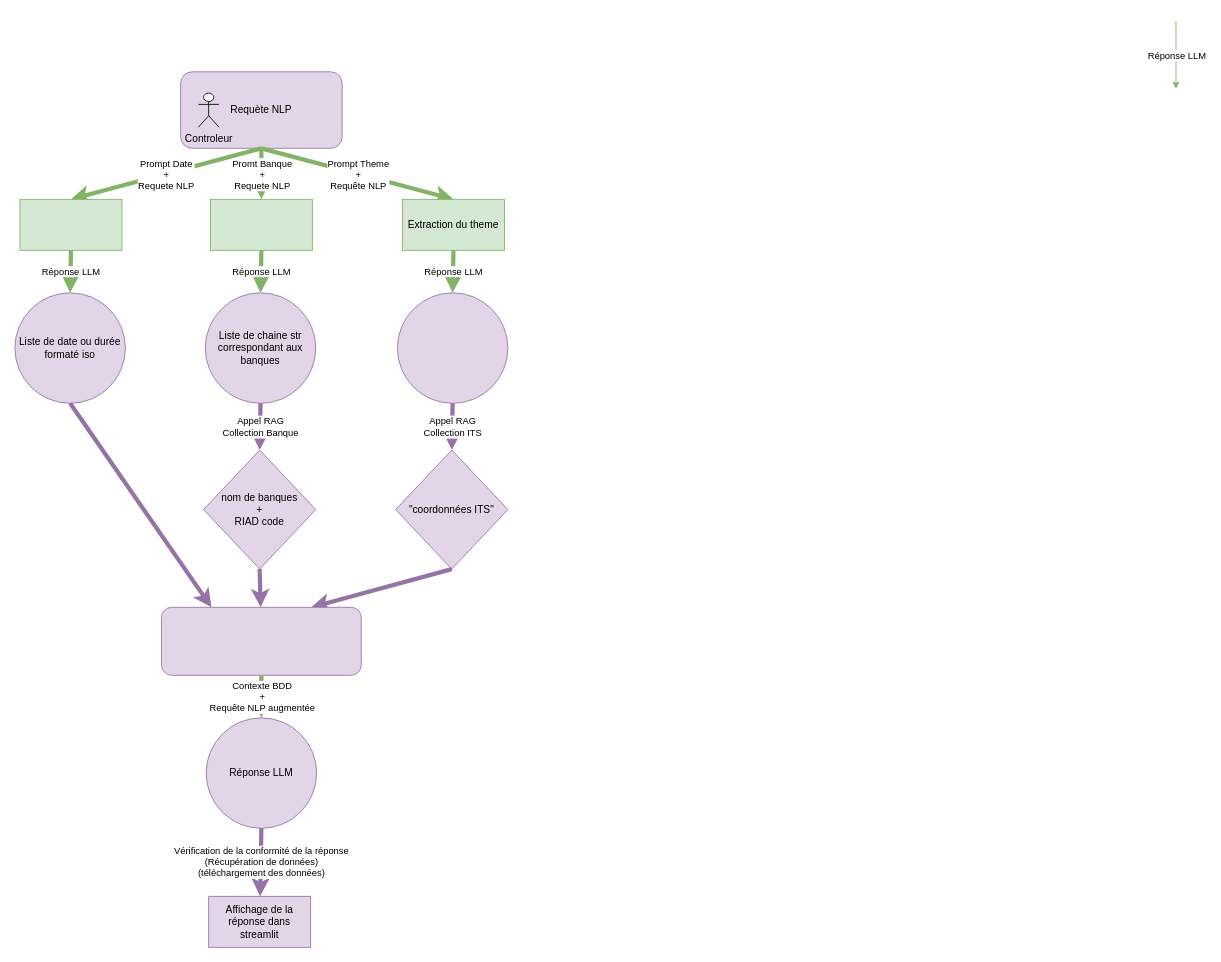
This 1221x962 diagram has some shape labels left out. Here are the shapes that lost their labels. From the top down, the centre of each, then its label:
point (70, 224): Extraction de la date ou de la durée
point (261, 224): Extraction des Banques
point (452, 347): une str contenant les information importante pour le theme
point (261, 640): Requête NLP augmentée avec le contexte (thème, dates, banques)
